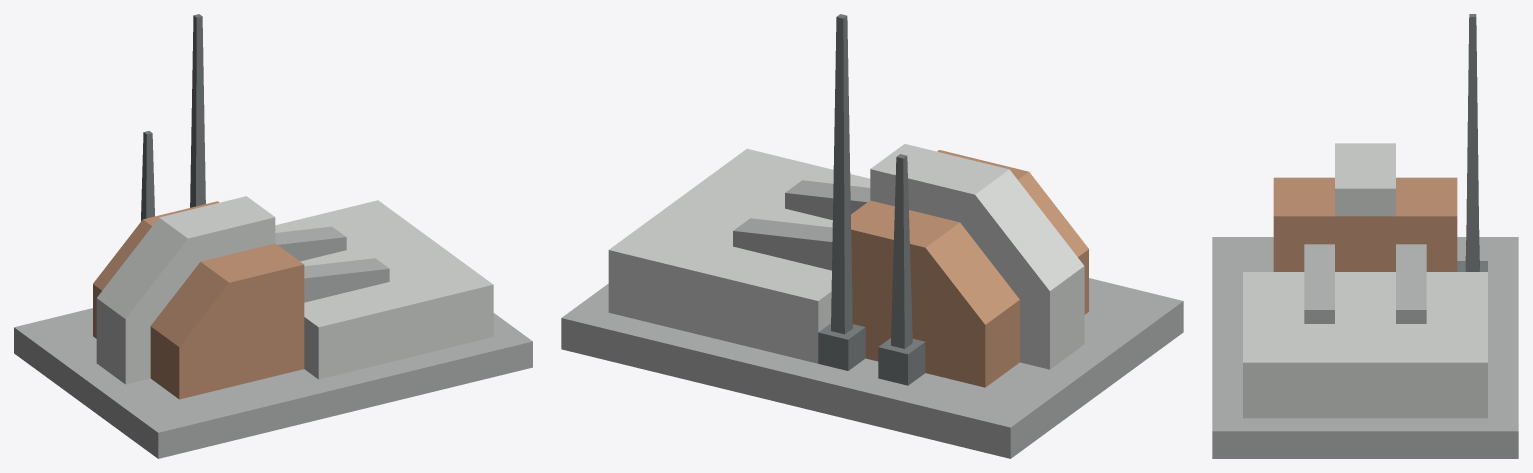
The model's file is srf_relay_unit.glb.
The picture shows the model from 3 angles, left to right: view 1: azimuth 30°, elevation 25°; view 2: azimuth 150°, elevation 25°; view 3: azimuth 270°, elevation 25°; orthographic projection. The views are drawn at different scales.
Parts seen in each view (by area): view 1: machine_wireless; view 2: machine_wireless; view 3: machine_wireless.
Boxes of the visible parts, <box> form: machine_wireless: <box>14,14,532,458</box>; machine_wireless: <box>561,14,1183,458</box>; machine_wireless: <box>1212,14,1518,458</box>.
Bounding box in the file's own units: 0.75 × 0.6 × 0.5.
